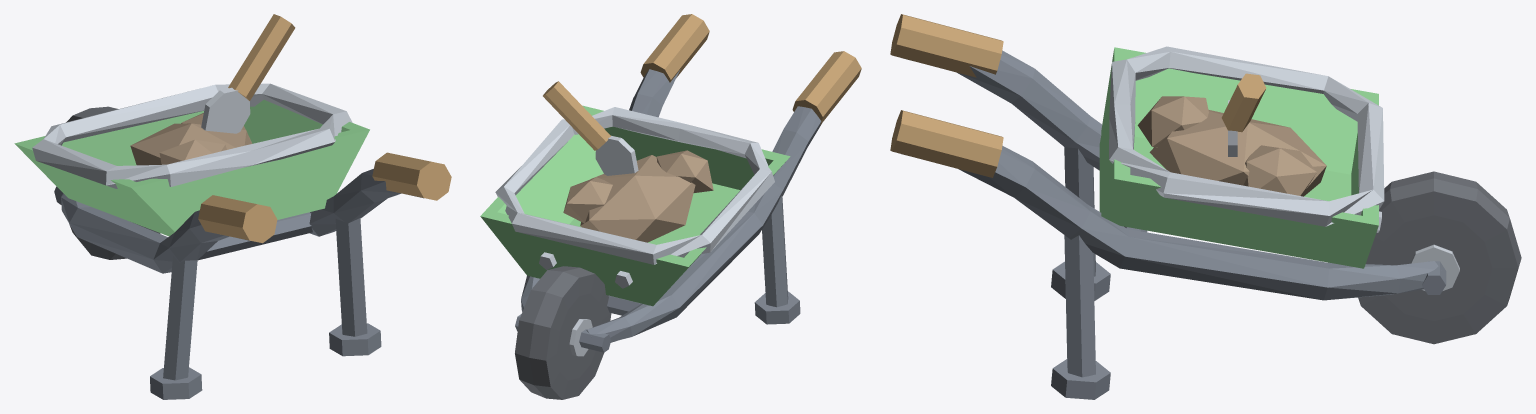
Rendered from Wheelbarrow.fbx.
3 views of the same model, side by side, from view 1: azimuth 30°, elevation 25°; view 2: azimuth 150°, elevation 25°; view 3: azimuth 270°, elevation 25° (orthographic). The views are drawn at different scales.
Parts seen in each view (by area): view 1: Wheelbarrow.Frame, Wheelbarrow.Tray, Wheelbarrow.Trim, Wheelbarrow.Grips, Wheelbarrow.Dirt, Wheelbarrow.Tyre; view 2: Wheelbarrow.Tray, Wheelbarrow.Trim, Wheelbarrow.Frame, Wheelbarrow.Tyre, Wheelbarrow.Dirt, Wheelbarrow.Grips; view 3: Wheelbarrow.Frame, Wheelbarrow.Tray, Wheelbarrow.Tyre, Wheelbarrow.Trim, Wheelbarrow.Dirt, Wheelbarrow.Grips.
Boxes of the visible parts, x1,y1,x2,y2 form: Wheelbarrow.Frame: (54, 168, 423, 399); Wheelbarrow.Tray: (14, 100, 369, 236); Wheelbarrow.Trim: (32, 83, 352, 188); Wheelbarrow.Grips: (198, 14, 451, 243); Wheelbarrow.Dirt: (130, 113, 252, 165); Wheelbarrow.Tyre: (66, 106, 160, 259); Wheelbarrow.Tray: (480, 105, 790, 306); Wheelbarrow.Trim: (495, 107, 774, 356); Wheelbarrow.Frame: (515, 69, 821, 352); Wheelbarrow.Tyre: (515, 266, 611, 399); Wheelbarrow.Dirt: (563, 150, 713, 242); Wheelbarrow.Grips: (543, 14, 861, 150); Wheelbarrow.Frame: (901, 50, 1446, 399); Wheelbarrow.Tray: (1099, 47, 1378, 268); Wheelbarrow.Tyre: (1358, 171, 1521, 344); Wheelbarrow.Trim: (1109, 46, 1459, 290); Wheelbarrow.Dirt: (1137, 96, 1326, 196); Wheelbarrow.Grips: (890, 14, 1266, 177).
Size of the model in its own units: 1.98 by 2.15 by 3.89.
